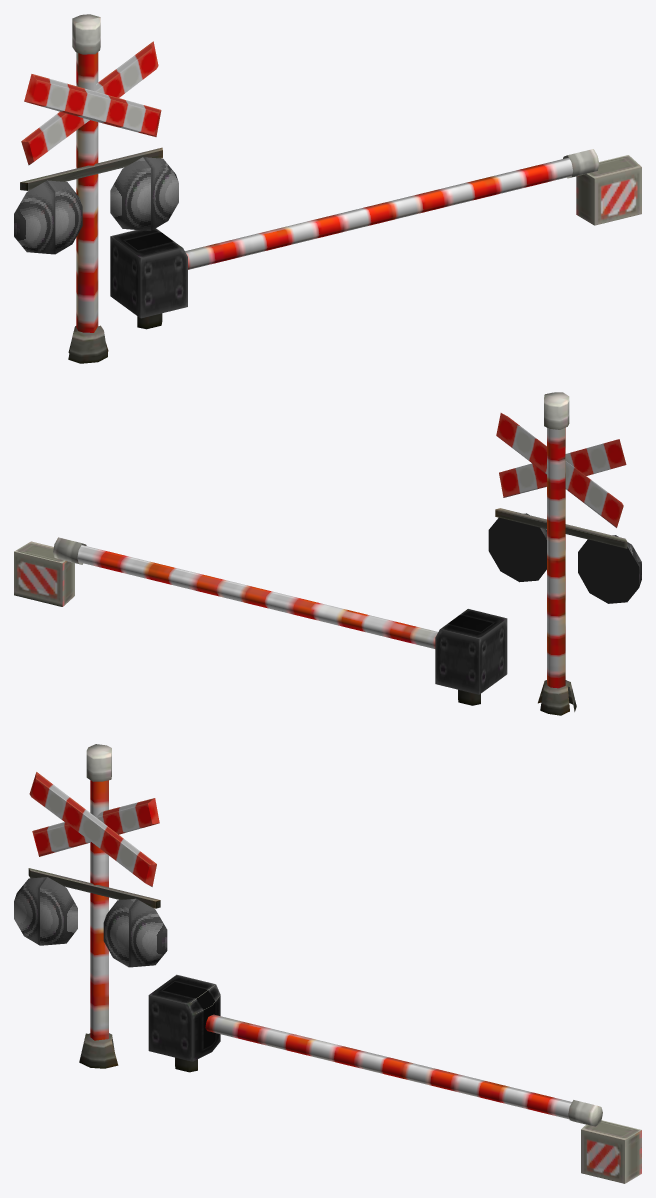
The model's file is railroad_crossing.glb.
3 renders of one model, top to bottom at view 1: azimuth 30°, elevation 25°; view 2: azimuth 150°, elevation 25°; view 3: azimuth 330°, elevation 25°, orthographic. The views are drawn at different scales.
Parts seen in each view (by area): view 1: vsn_mesh_1__mesh_1_, vsn_mesh_0__mesh_0_, vsn_mesh_2__mesh_2_; view 2: vsn_mesh_1__mesh_1_, vsn_mesh_0__mesh_0_, vsn_mesh_2__mesh_2_; view 3: vsn_mesh_1__mesh_1_, vsn_mesh_0__mesh_0_, vsn_mesh_2__mesh_2_.
Part boxes in pixels (x1,y1,x2,y2): vsn_mesh_1__mesh_1_: (20, 14, 641, 363); vsn_mesh_0__mesh_0_: (185, 149, 599, 269); vsn_mesh_2__mesh_2_: (14, 157, 178, 254); vsn_mesh_1__mesh_1_: (14, 392, 627, 715); vsn_mesh_0__mesh_0_: (53, 537, 438, 648); vsn_mesh_2__mesh_2_: (488, 513, 641, 603); vsn_mesh_1__mesh_1_: (28, 744, 641, 1183); vsn_mesh_0__mesh_0_: (205, 1014, 602, 1126); vsn_mesh_2__mesh_2_: (14, 877, 167, 967).
Bounding box in the file's own units: 1.54 × 0.7664 × 0.1908.
Materials: 2 (2 with a texture image).
